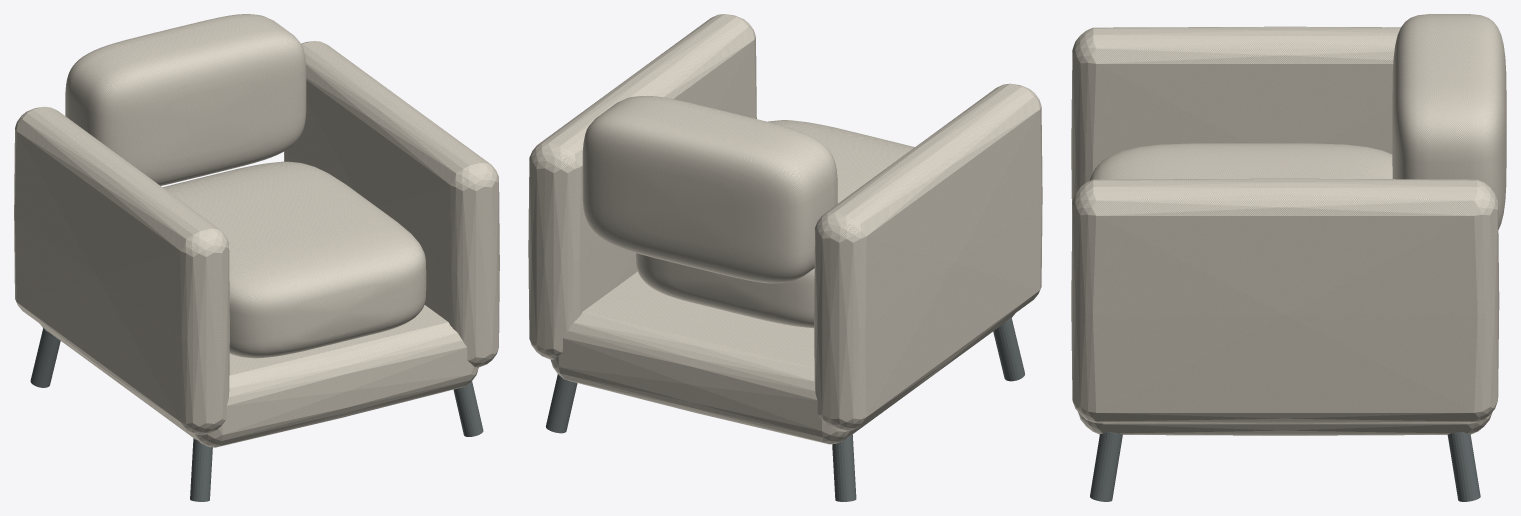
File: lounge_chair.glb
3 renders of one model, left to right at view 1: azimuth 30°, elevation 25°; view 2: azimuth 150°, elevation 25°; view 3: azimuth 270°, elevation 25°, orthographic. The views are drawn at different scales.
Visible parts, largest first — view 1: 扶手_7, 独立坐垫_5, 软包靠垫_6, 扶手_8, 承重底座_4, 锥形支脚_1, 锥形支脚_0, 锥形支脚_3; view 2: 扶手_7, 软包靠垫_6, 承重底座_4, 扶手_8, 独立坐垫_5, 锥形支脚_0, 锥形支脚_1, 锥形支脚_2; view 3: 扶手_8, 扶手_7, 软包靠垫_6, 独立坐垫_5, 承重底座_4, 锥形支脚_3, 锥形支脚_2.
Part boxes in pixels (box(x1,y1,x2,y2)): 扶手_7: box(14, 106, 229, 434); 独立坐垫_5: box(163, 161, 426, 358); 软包靠垫_6: box(65, 14, 306, 185); 扶手_8: box(284, 41, 499, 367); 承重底座_4: box(39, 305, 478, 447); 锥形支脚_1: box(190, 438, 212, 501); 锥形支脚_0: box(30, 327, 60, 387); 锥形支脚_3: box(453, 381, 483, 436); 扶手_7: box(814, 83, 1042, 430); 软包靠垫_6: box(582, 96, 837, 283); 承重底座_4: box(550, 271, 1014, 444); 扶手_8: box(528, 14, 756, 359); 独立坐垫_5: box(636, 120, 914, 328); 锥形支脚_0: box(832, 434, 856, 501); 锥形支脚_1: box(993, 317, 1024, 381); 锥形支脚_2: box(546, 374, 577, 433); 扶手_8: box(1071, 178, 1499, 423); 扶手_7: box(1071, 26, 1400, 221); 软包靠垫_6: box(1392, 14, 1506, 229); 独立坐垫_5: box(1089, 143, 1392, 180); 承重底座_4: box(1078, 412, 1492, 435); 锥形支脚_3: box(1090, 432, 1122, 501); 锥形支脚_2: box(1447, 432, 1480, 501).
Size of the model in its own units: 0.84 by 0.8 by 0.86.
2 materials, 1 textured.
